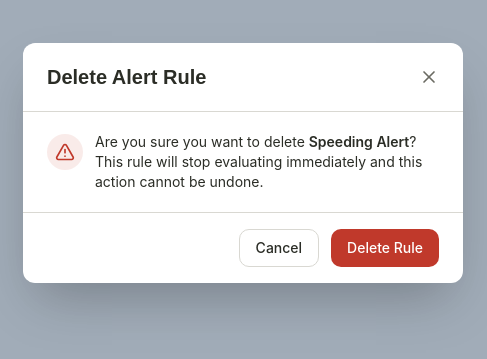
Scenario: DeleteAlertRuleModal › falls back to err.message when response.data.message is missing
Click the button "Delete Rule".
click(385, 248)  # box [331,229,439,267]
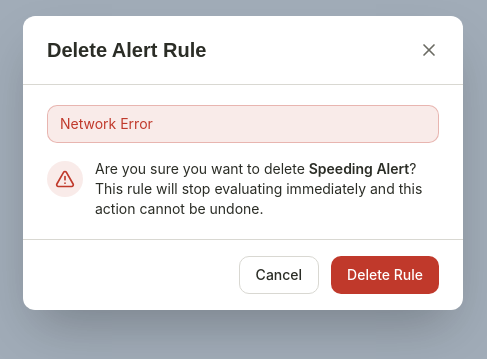
Expected: the text "Network Error" is shown, [47,105,439,143]
